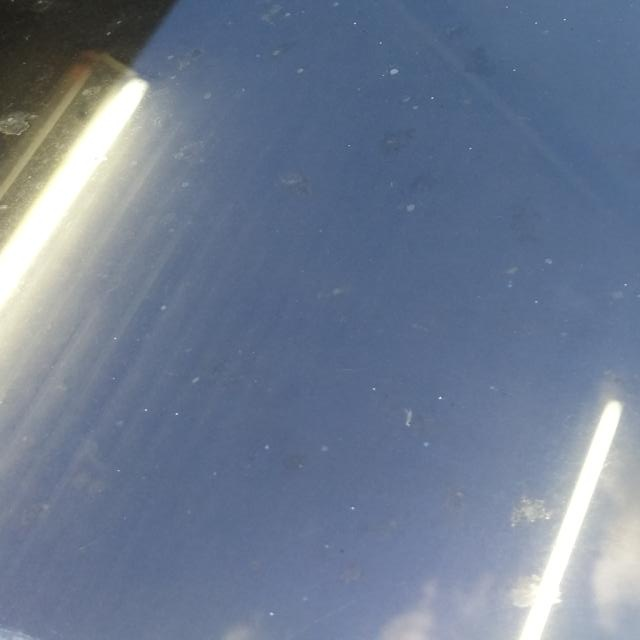fluorescent tube: (0, 56, 174, 434), (501, 375, 632, 640)
